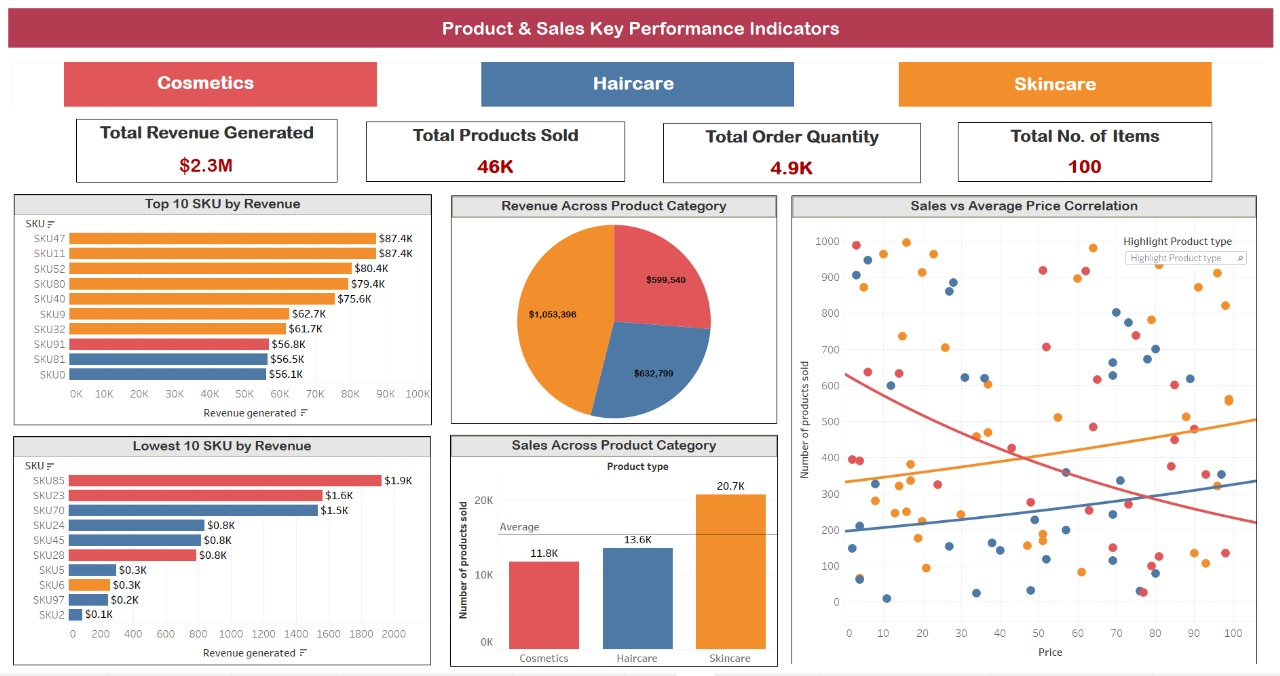

The dashboard page shown, as its layout file describes it:
{"tool":"tableau","page":{"name":"KPI","canvas":[1000,1000],"units":"permille","ordinal":2},"visuals":[{"type":"text","box":[6,12.5,971,58.7]},{"type":"worksheet","title":"Product Category Buttons","mark":"Automatic","rows":["Calculation_1027665199168569349"],"cols":["Product type"],"box":[9.1,91.1,961.4,67.4]},{"type":"worksheet","title":"Total Revenue Generated","mark":"Automatic","box":[58.5,176,200.4,94.9]},{"type":"worksheet","title":"Total Products Sold","mark":"Automatic","box":[280.6,179.8,199.2,89.9]},{"type":"worksheet","title":"Total No. of Items","mark":"Automatic","box":[735.1,181,195.5,88.6]},{"type":"worksheet","title":"Total Order Quantity","mark":"Automatic","box":[508.8,182.3,198,89.9]},{"type":"worksheet","title":"Top 10 SKU by Revenue","mark":"Automatic","rows":["SKU"],"cols":["Revenue generated"],"box":[10.3,288.4,321.1,343.3]},{"type":"worksheet","title":"Revenue by Product (2)","mark":"Pie","box":[345.8,289.6,250.5,339.6]},{"type":"worksheet","title":"Sales vs Average Price Correlation","mark":"Automatic","rows":["Number of products sold"],"cols":["Price"],"box":[607.1,289.6,357.3,696.6]},{"type":"highlighter","title":"Sales vs Average Price Correlation","param":"[federated.08ssd4x013gij215j9kym1rdqcrj].[none:Product type:nk]","box":[861.8,347.1,96.6,108.6]},{"type":"worksheet","title":"Sales Across Product Category","mark":"Automatic","rows":["Number of products sold"],"cols":["Product type"],"box":[345.2,645.4,251.7,344.6]},{"type":"worksheet","title":"Lowest 10 SKU by Revenue","mark":"Automatic","rows":["SKU"],"cols":["Revenue generated"],"box":[9.7,647.9,321.1,340.8]}]}

Visuals, with their boxes on the dashboard's canvas, which has no fixed pixel size, in thousandths of its width and height (x1, y1, x2, y2). These are canvas units, not pixel positions in the 1280x676 screenshot, which may show the page scaled, cropped or inside an application window:
text: left=6, top=12, right=977, bottom=71
"Product Category Buttons" worksheet: left=9, top=91, right=970, bottom=158
"Total Revenue Generated" worksheet: left=58, top=176, right=259, bottom=271
"Total Products Sold" worksheet: left=281, top=180, right=480, bottom=270
"Total No. of Items" worksheet: left=735, top=181, right=931, bottom=270
"Total Order Quantity" worksheet: left=509, top=182, right=707, bottom=272
"Top 10 SKU by Revenue" worksheet: left=10, top=288, right=331, bottom=632
"Revenue by Product (2)" worksheet (Pie marks): left=346, top=290, right=596, bottom=629
"Sales vs Average Price Correlation" worksheet: left=607, top=290, right=964, bottom=986
"Sales vs Average Price Correlation" highlighter: left=862, top=347, right=958, bottom=456
"Sales Across Product Category" worksheet: left=345, top=645, right=597, bottom=990
"Lowest 10 SKU by Revenue" worksheet: left=10, top=648, right=331, bottom=989
